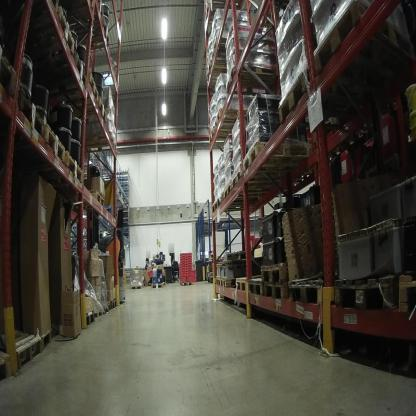pallets: (0, 63, 90, 189), (211, 270, 416, 321), (209, 139, 270, 206), (0, 327, 55, 381), (80, 298, 122, 330)
